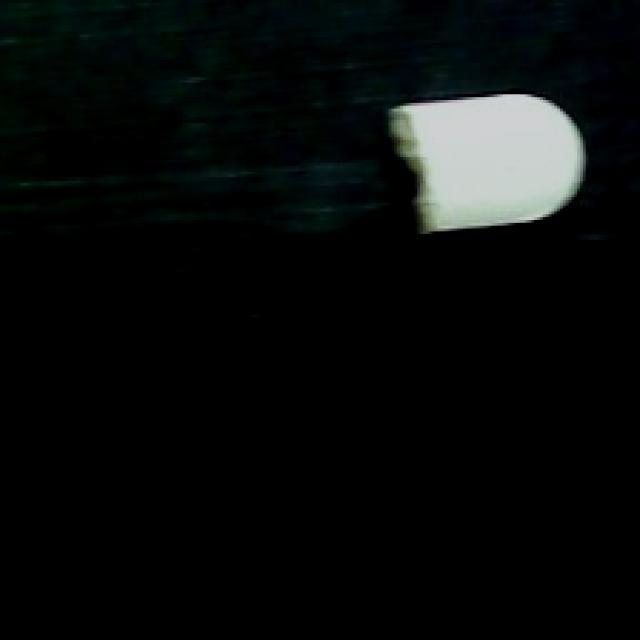defected: (383, 85, 593, 242)
